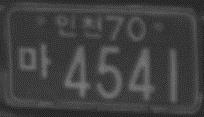0: (127, 15, 147, 41)
1: (161, 48, 186, 103)
4: (62, 44, 91, 97), (129, 47, 155, 100)
5: (95, 45, 125, 99)
7: (105, 14, 126, 42)
마: (18, 42, 53, 81)
인천_O: (55, 13, 103, 39)
